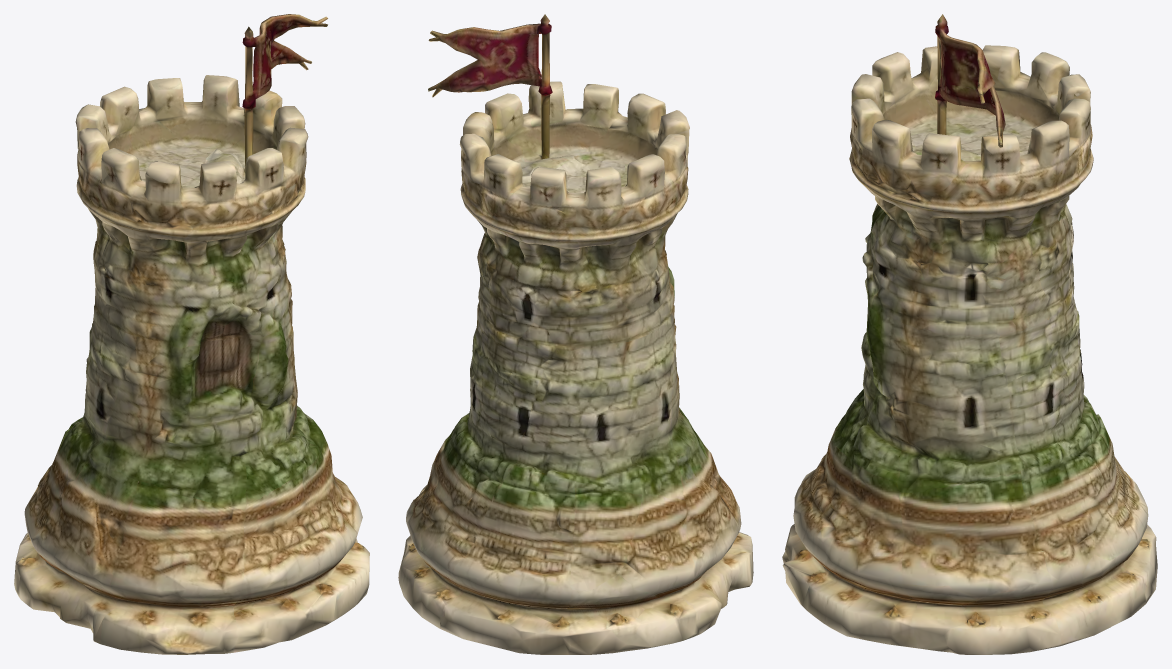
Rendered from rook.glb.
3 views of the same model, side by side, from view 1: azimuth 30°, elevation 25°; view 2: azimuth 150°, elevation 25°; view 3: azimuth 270°, elevation 25° (orthographic). The views are drawn at different scales.
Bounding box in the file's own units: 1.11 × 1.9 × 1.1.
1 material, 1 textured.
